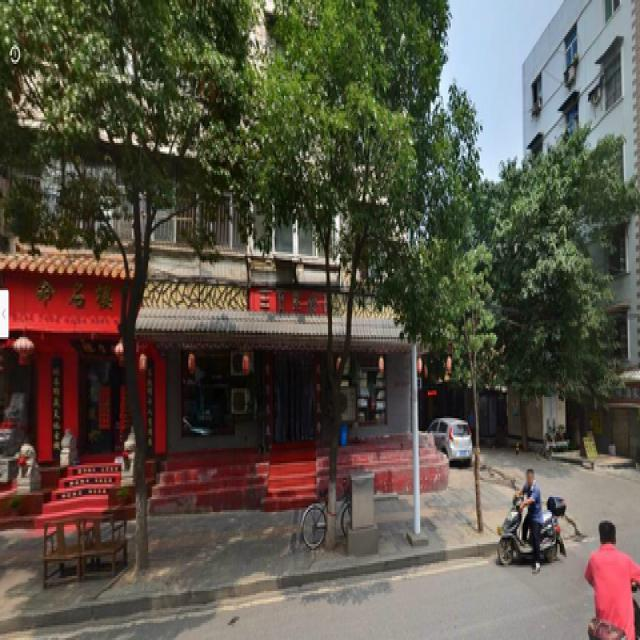cinn: (33, 15, 212, 565), (280, 15, 405, 542)
